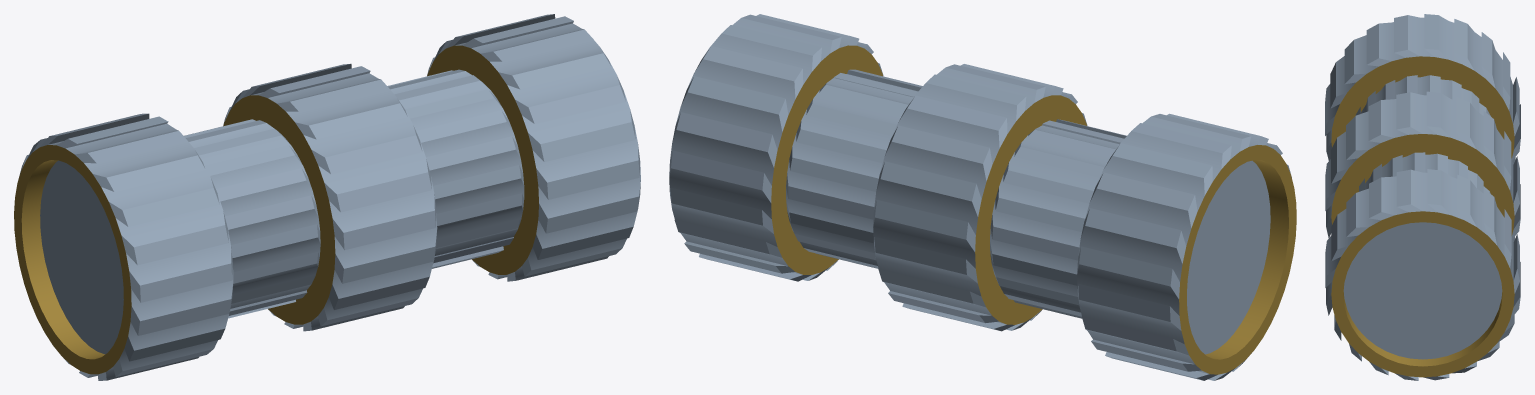
File: Cylinder_004_geometry-panic-factory.fbx
The picture shows the model from 3 angles, left to right: view 1: azimuth 30°, elevation 25°; view 2: azimuth 150°, elevation 25°; view 3: azimuth 270°, elevation 25°; orthographic projection. The views are drawn at different scales.
Parts seen in each view (by area): view 1: Cylinder.004.geometry-panic-factory; view 2: Cylinder.004.geometry-panic-factory; view 3: Cylinder.004.geometry-panic-factory.
Part boxes in pixels (x1,y1,x2,y2): Cylinder.004.geometry-panic-factory: (14,14,640,380); Cylinder.004.geometry-panic-factory: (669,14,1296,380); Cylinder.004.geometry-panic-factory: (1325,14,1520,380).
Bounding box in the file's own units: 2.34 × 0.9998 × 0.9998.
